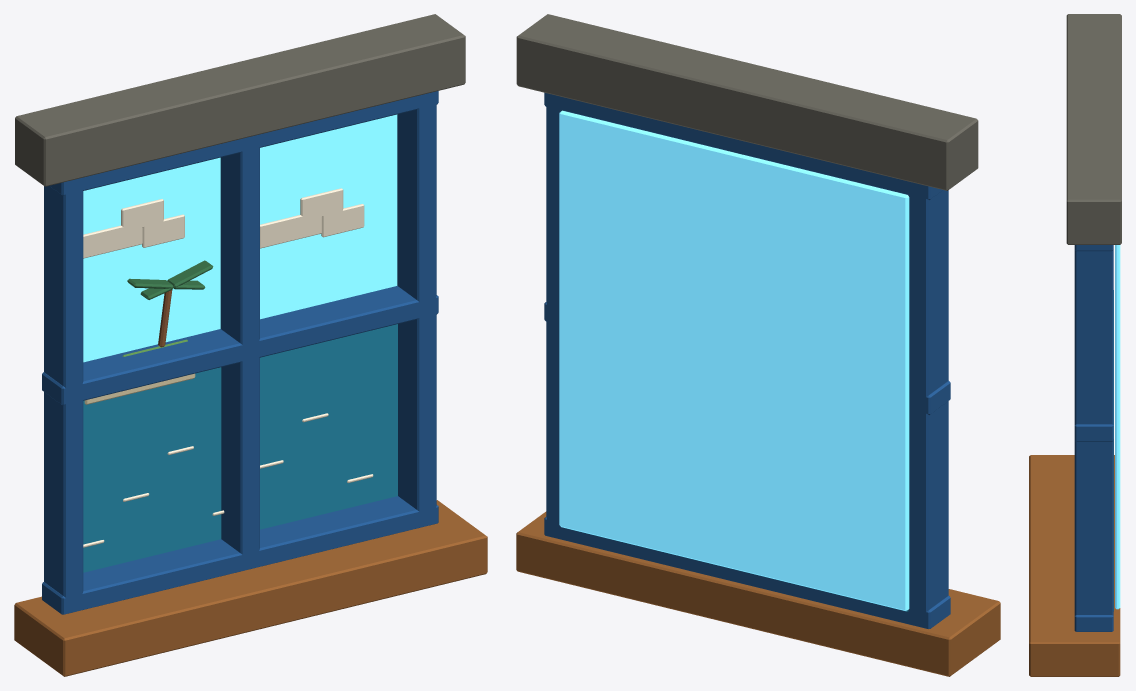
Rendered from ocean_window.glb.
3 renders of one model, left to right at view 1: azimuth 30°, elevation 25°; view 2: azimuth 150°, elevation 25°; view 3: azimuth 270°, elevation 25°, orthographic. The views are drawn at different scales.
Parts seen in each view (by area): view 1: ocean_window__body__azure, ocean_window__body__sea, ocean_window__body__sky, ocean_window__body__stone_dark, ocean_window__body__oak2, ocean_window__body__cloud, ocean_window__body__green; view 2: ocean_window__body__sky, ocean_window__body__stone_dark, ocean_window__body__azure, ocean_window__body__oak2; view 3: ocean_window__body__azure, ocean_window__body__stone_dark, ocean_window__body__oak2, ocean_window__body__sky, ocean_window__body__sea.
Boxes of the visible parts, bbox=[...] form: ocean_window__body__azure: bbox=[42, 91, 438, 614]; ocean_window__body__sea: bbox=[83, 324, 397, 572]; ocean_window__body__sky: bbox=[83, 114, 397, 362]; ocean_window__body__stone_dark: bbox=[15, 14, 465, 186]; ocean_window__body__oak2: bbox=[14, 500, 487, 676]; ocean_window__body__cloud: bbox=[83, 188, 373, 547]; ocean_window__body__green: bbox=[127, 260, 213, 299]; ocean_window__body__sky: bbox=[559, 110, 909, 611]; ocean_window__body__stone_dark: bbox=[516, 14, 978, 190]; ocean_window__body__azure: bbox=[544, 92, 950, 628]; ocean_window__body__oak2: bbox=[516, 511, 1000, 676]; ocean_window__body__azure: bbox=[1074, 245, 1113, 631]; ocean_window__body__stone_dark: bbox=[1066, 14, 1121, 244]; ocean_window__body__oak2: bbox=[1029, 455, 1120, 676]; ocean_window__body__sky: bbox=[1115, 245, 1120, 609]; ocean_window__body__sea: bbox=[1113, 290, 1113, 610].
Bounding box in the file's own units: 1.61 × 1.9 × 0.335.
